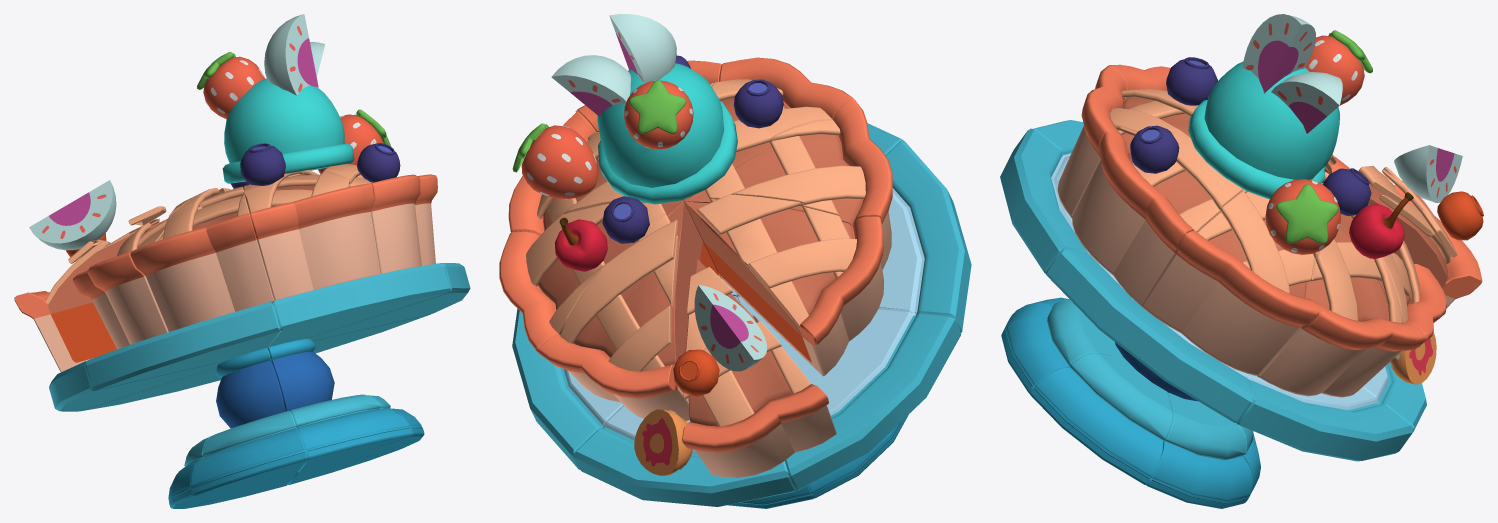
3 renders of one model, left to right at view 1: azimuth 30°, elevation 25°; view 2: azimuth 150°, elevation 25°; view 3: azimuth 270°, elevation 25°, orthographic. The views are drawn at different scales.
Parts seen in each view (by area): view 1: FruitPie_001, FruitPie_016, FruitPie_017, FruitPie_023, FruitPie_022, FruitPie_011, FruitPie_030, FruitPie_015, FruitPie_018, FruitPie_032, FruitPie_025, FruitPie_007 (+12 smaller); view 2: FruitPie_018, FruitPie_001, FruitPie_012, FruitPie_024, FruitPie_011, FruitPie_017, FruitPie_023, FruitPie_019, FruitPie_013, FruitPie_016, FruitPie_020, FruitPie_009 (+11 smaller); view 3: FruitPie_001, FruitPie_014, FruitPie_015, FruitPie_013, FruitPie_031, FruitPie_021, FruitPie_020, FruitPie_027, FruitPie_016, FruitPie_022, FruitPie_032, FruitPie_011 (+14 smaller).
Part boxes in pixels (x1=…): FruitPie_001: x1=197, y1=14, x2=354, y2=183; FruitPie_016: x1=243, y1=170, x2=380, y2=300; FruitPie_017: x1=130, y1=186, x2=273, y2=331; FruitPie_023: x1=85, y1=302, x2=280, y2=389; FruitPie_022: x1=267, y1=263, x2=450, y2=348; FruitPie_011: x1=14, y1=206, x2=166, y2=372; FruitPie_030: x1=191, y1=411, x2=307, y2=495; FruitPie_015: x1=286, y1=164, x2=437, y2=273; FruitPie_018: x1=73, y1=188, x2=221, y2=349; FruitPie_032: x1=289, y1=394, x2=412, y2=472; FruitPie_025: x1=215, y1=348, x2=285, y2=428; FruitPie_007: x1=29, y1=180, x2=116, y2=250; FruitPie_018: x1=685, y1=194, x2=884, y2=376; FruitPie_001: x1=551, y1=14, x2=737, y2=204; FruitPie_012: x1=537, y1=202, x2=720, y2=420; FruitPie_024: x1=738, y1=296, x2=960, y2=490; FruitPie_011: x1=682, y1=259, x2=836, y2=477; FruitPie_017: x1=684, y1=98, x2=892, y2=269; FruitPie_023: x1=739, y1=140, x2=971, y2=332; FruitPie_019: x1=573, y1=297, x2=796, y2=506; FruitPie_013: x1=499, y1=201, x2=682, y2=351; FruitPie_016: x1=684, y1=57, x2=852, y2=200; FruitPie_020: x1=512, y1=296, x2=735, y2=469; FruitPie_009: x1=512, y1=123, x2=597, y2=199; FruitPie_001: x1=1188, y1=14, x2=1372, y2=199; FruitPie_014: x1=1142, y1=190, x2=1319, y2=375; FruitPie_015: x1=1072, y1=129, x2=1246, y2=306; FruitPie_013: x1=1257, y1=226, x2=1427, y2=397; FruitPie_031: x1=1029, y1=353, x2=1173, y2=484; FruitPie_021: x1=1046, y1=249, x2=1253, y2=422; FruitPie_020: x1=1236, y1=374, x2=1412, y2=461; FruitPie_027: x1=1146, y1=392, x2=1252, y2=508; FruitPie_016: x1=1057, y1=65, x2=1198, y2=218; FruitPie_022: x1=1000, y1=128, x2=1090, y2=273; FruitPie_032: x1=1001, y1=299, x2=1123, y2=393; FruitPie_011: x1=1358, y1=165, x2=1482, y2=308.
Bounding box in the file's own units: 9.73 × 11.21 × 9.67.
